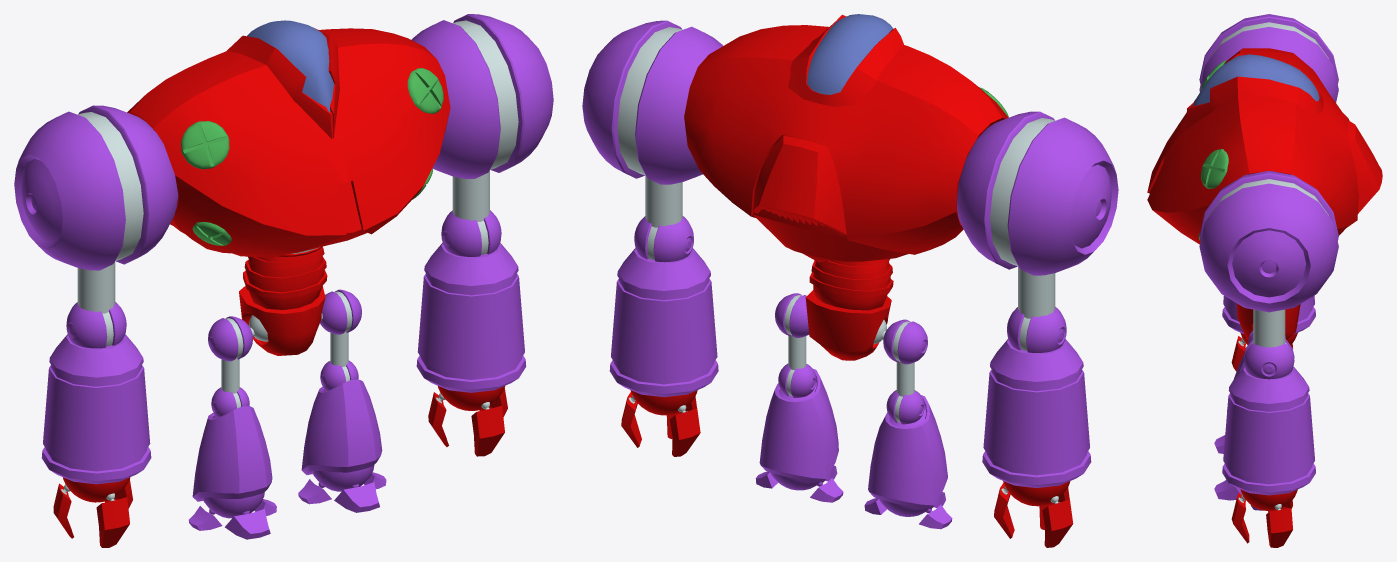
The model's file is RobotUV.fbx.
The picture shows the model from 3 angles, left to right: view 1: azimuth 30°, elevation 25°; view 2: azimuth 150°, elevation 25°; view 3: azimuth 270°, elevation 25°; orthographic projection. The views are drawn at different scales.
Visible parts, largest first — view 1: Chest_Geo, R_Shoulder_Geo, L_Shoulder_Geo, L_Elbow_Geo, R_Elbow_Geo, L_Shin_Geo, R_Shin_Geo, Spine_Geo, Pelvis_Geo, R_Femur_Geo, L_Femur_Geo, L_Finger_02_Geo (+7 smaller); view 2: Chest_Geo, R_Shoulder_Geo, L_Shoulder_Geo, L_Elbow_Geo, R_Elbow_Geo, L_Shin_Geo, R_Shin_Geo, Pelvis_Geo, Spine_Geo, R_Femur_Geo, L_Femur_Geo, L_Finger_01_Geo (+5 smaller); view 3: Chest_Geo, L_Shoulder_Geo, L_Elbow_Geo, R_Shoulder_Geo, R_Elbow_Geo, L_Finger_03_Geo, Pelvis_Geo, L_Wrist_Geo, L_Finger_02_Geo, L_Toe_02_Geo, R_Finger_02_Geo.
Boxes of the visible parts, x1,y1,x2,y2 form: Chest_Geo: (127,20,450,257); R_Shoulder_Geo: (14,105,178,313); L_Shoulder_Geo: (411,14,553,221); L_Elbow_Geo: (416,210,526,392); R_Elbow_Geo: (41,302,151,484); L_Shin_Geo: (301,360,382,474); R_Shin_Geo: (192,387,272,501); Spine_Geo: (243,246,327,309); Pelvis_Geo: (239,286,325,355); R_Femur_Geo: (208,316,252,393); L_Femur_Geo: (320,289,361,367); L_Finger_02_Geo: (471,402,504,456); Chest_Geo: (684,14,1008,262); R_Shoulder_Geo: (957,111,1118,318); L_Shoulder_Geo: (582,20,722,227); L_Elbow_Geo: (609,216,718,397); R_Elbow_Geo: (982,307,1091,487); L_Shin_Geo: (759,363,838,482); R_Shin_Geo: (868,390,947,508); Pelvis_Geo: (805,290,891,360); Spine_Geo: (809,258,893,310); R_Femur_Geo: (883,319,927,396); L_Femur_Geo: (775,293,809,370); L_Finger_01_Geo: (669,405,700,456); Chest_Geo: (1147,48,1382,244); L_Shoulder_Geo: (1199,170,1338,347); L_Elbow_Geo: (1222,339,1315,495); R_Shoulder_Geo: (1199,14,1338,102); R_Elbow_Geo: (1222,295,1315,334); L_Finger_03_Geo: (1266,504,1292,547); Pelvis_Geo: (1237,303,1300,339); L_Wrist_Geo: (1240,489,1297,510); L_Finger_02_Geo: (1231,492,1249,543); L_Toe_02_Geo: (1214,479,1241,500); R_Finger_02_Geo: (1231,336,1245,371).
Size of the model in its own units: 268 by 245 by 126.
